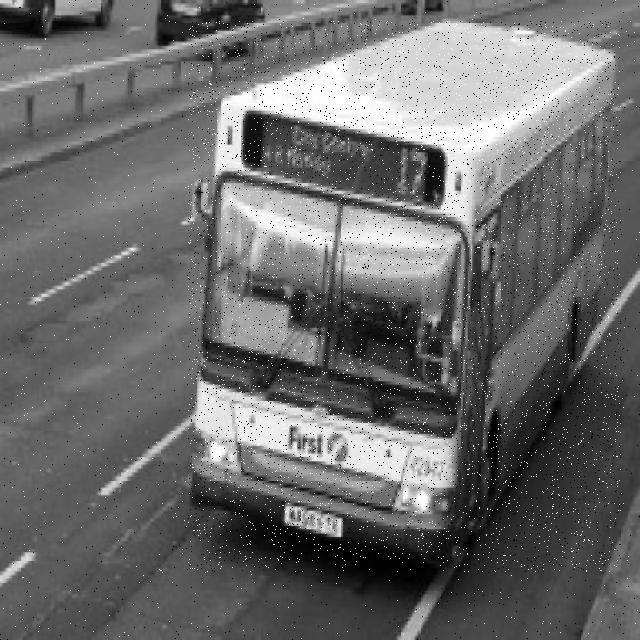Bus: (188, 21, 621, 572)
